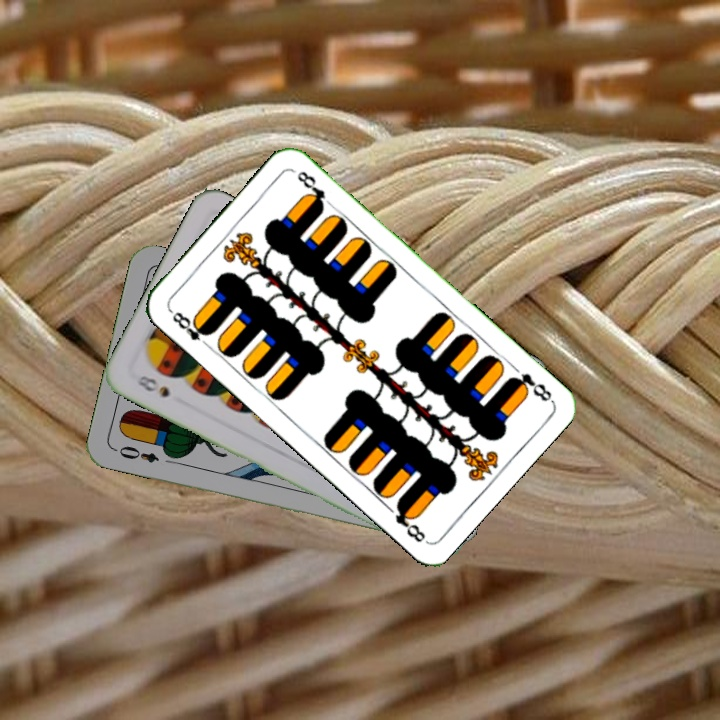E8: (165, 306, 215, 351), (505, 369, 555, 404)
EO: (110, 442, 162, 466)
S8: (132, 371, 172, 400)
